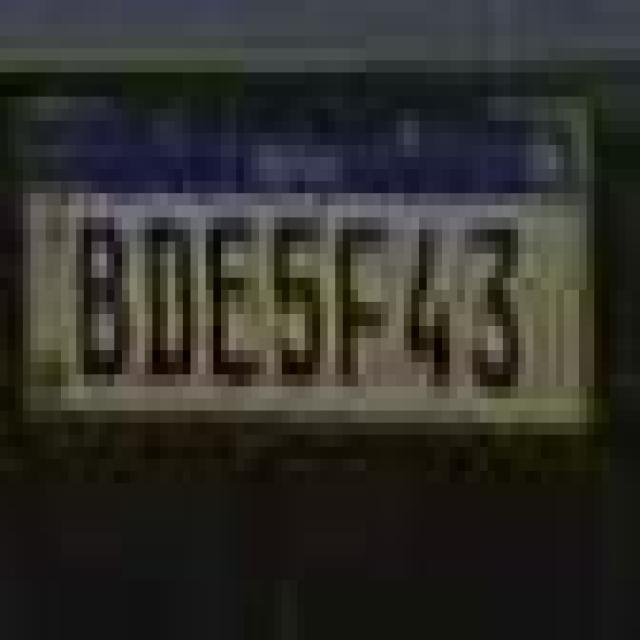3: (463, 203, 529, 410)
4: (399, 212, 459, 404)
5: (265, 208, 331, 390)
B: (68, 202, 135, 388)
D: (136, 207, 202, 384)
E: (202, 199, 265, 393)
F: (330, 208, 399, 396)
